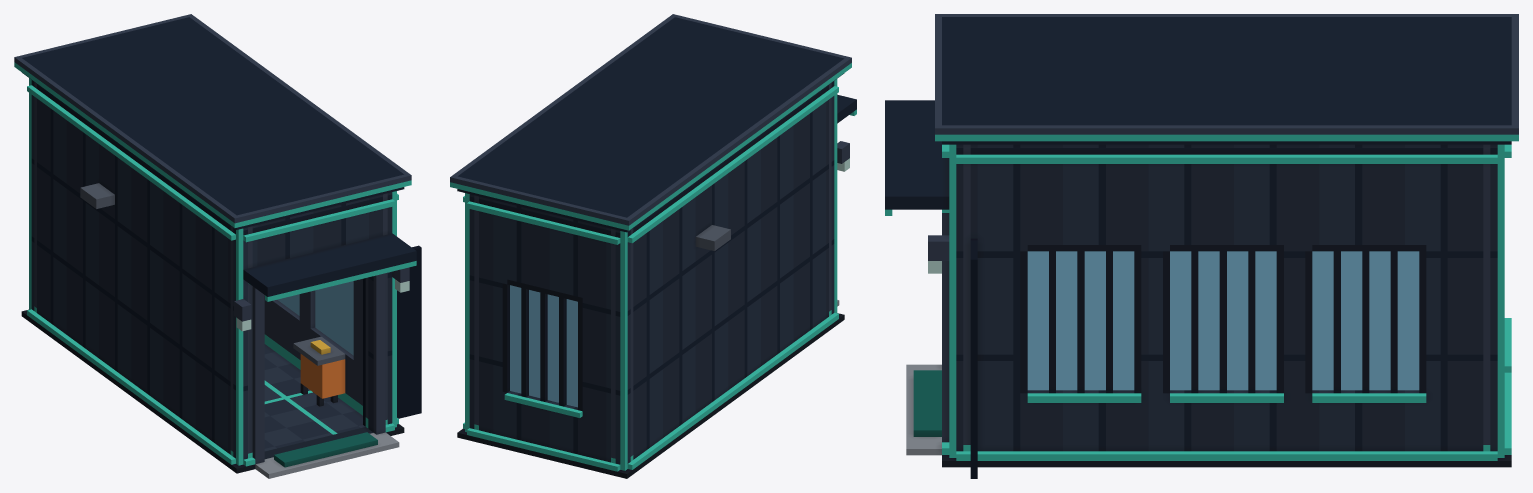
Rendered from factory_e4_l3.glb.
3 views of the same model, side by side, from view 1: azimuth 30°, elevation 25°; view 2: azimuth 150°, elevation 25°; view 3: azimuth 270°, elevation 25° (orthographic). The views are drawn at different scales.
Visible parts, largest first — view 1: CutRoof, CutNX, Base, CutPZ, CutPX, CutNZ; view 2: CutRoof, CutNX, CutNZ, Base, CutPZ; view 3: CutPX, CutRoof, Base, CutPZ, CutNZ.
Part boxes in pixels (<box>): CutRoof: <box>14,14,411,229</box>; CutNX: <box>27,84,235,415</box>; Base: <box>21,183,421,478</box>; CutPZ: <box>230,191,421,421</box>; CutPX: <box>264,193,398,371</box>; CutNZ: <box>29,78,36,273</box>; CutRoof: <box>450,14,851,232</box>; CutNX: <box>627,85,838,419</box>; CutNZ: <box>465,193,633,426</box>; Base: <box>457,225,844,478</box>; CutPZ: <box>829,79,856,276</box>; CutPX: <box>956,144,1497,402</box>; CutRoof: <box>935,14,1518,144</box>; Base: <box>906,364,1511,478</box>; CutPZ: <box>885,100,977,420</box>; CutNZ: <box>1483,144,1511,399</box>.
Bounding box in the file's own units: 4.5 × 5.3 × 8.9.
